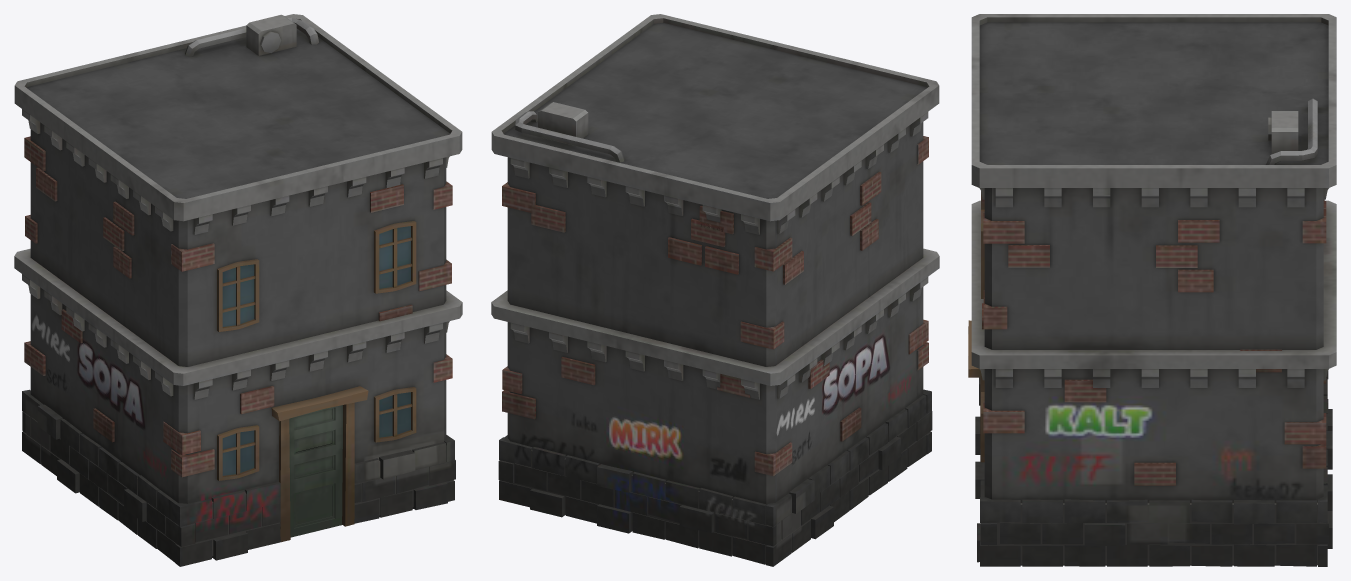
File: 2Story_2.glb
3 renders of one model, left to right at view 1: azimuth 30°, elevation 25°; view 2: azimuth 150°, elevation 25°; view 3: azimuth 270°, elevation 25°, orthographic. The views are drawn at different scales.
Parts seen in each view (by area): view 1: 2Story_2_low; view 2: 2Story_2_low; view 3: 2Story_2_low.
Boxes of the visible parts, x1,y1,x2,y2 form: 2Story_2_low: (14, 14, 462, 566); 2Story_2_low: (491, 14, 939, 566); 2Story_2_low: (968, 14, 1336, 566).
Size of the model in its own units: 2.16 by 2.76 by 2.17.
Materials: 2 (2 with a texture image).
